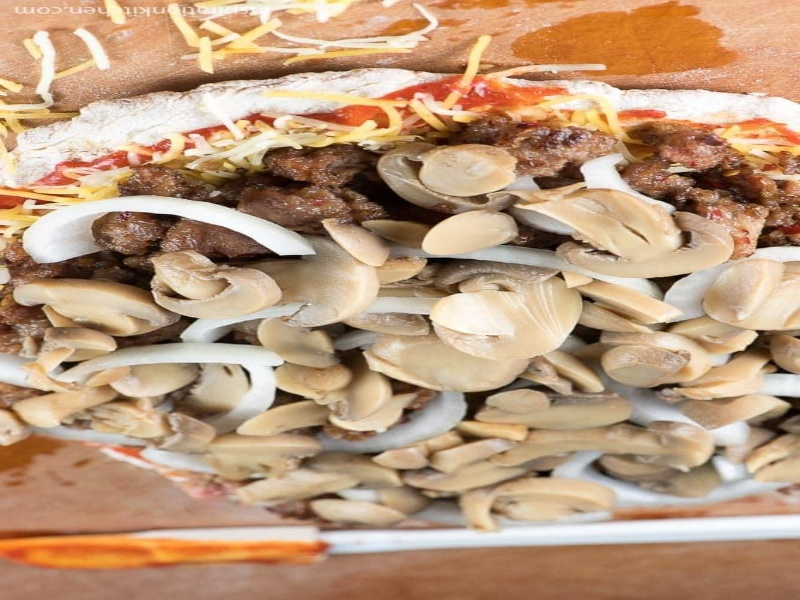champignon: (522, 177, 741, 283), (142, 246, 283, 324)
